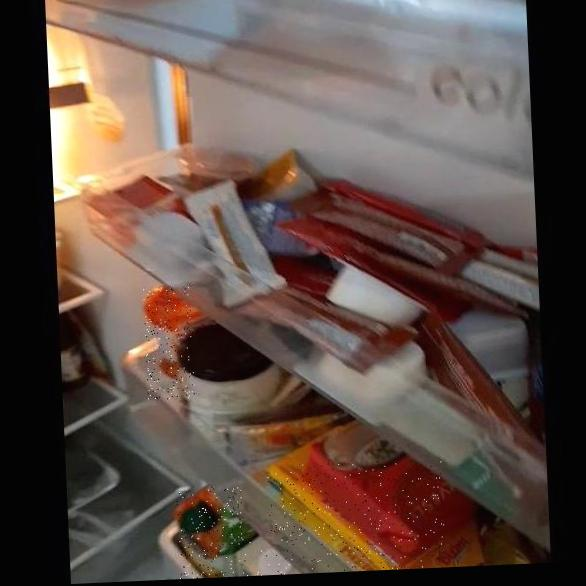butter: (266, 458, 445, 575)
juice: (176, 484, 245, 579)
milk: (234, 538, 306, 577)
sauce: (143, 286, 195, 400)
